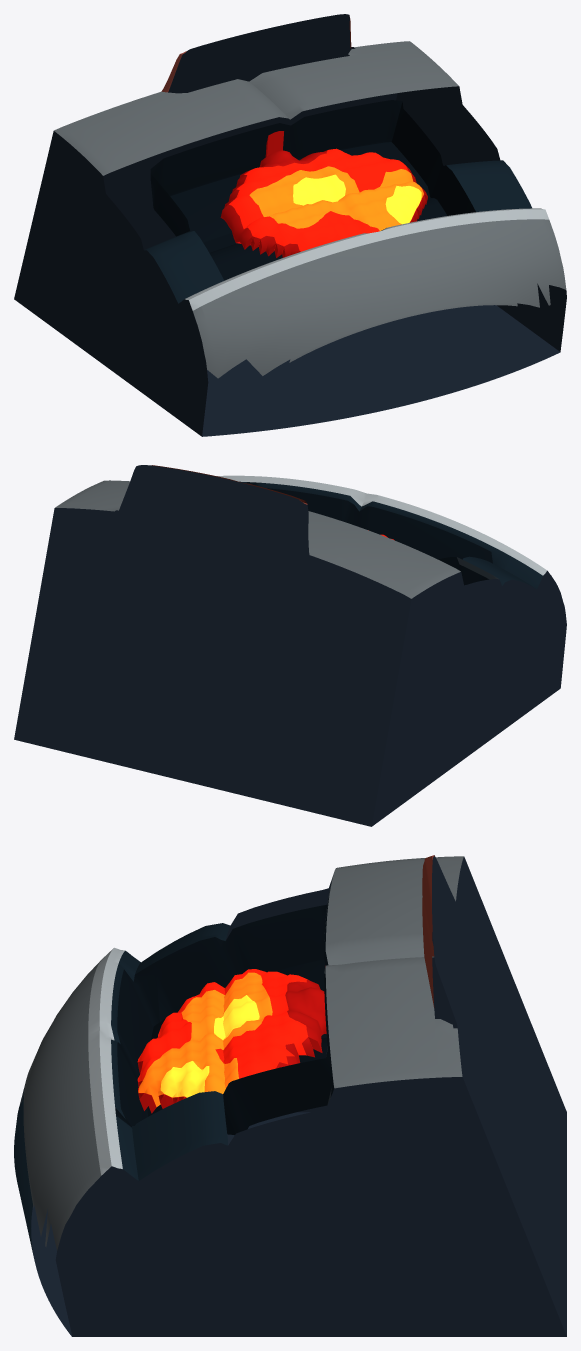
File: armour_dome_11.glb
3 views of the same model, one above another, from view 1: azimuth 30°, elevation 25°; view 2: azimuth 150°, elevation 25°; view 3: azimuth 270°, elevation 25° (orthographic). The views are drawn at different scales.
Visible parts, largest first — view 1: armour_dome_11; view 2: armour_dome_11; view 3: armour_dome_11.
Part boxes in pixels (x1,y1,x2,y2): armour_dome_11: (14, 14, 566, 436); armour_dome_11: (14, 465, 566, 826); armour_dome_11: (14, 855, 566, 1336).
Size of the model in its own units: 24 by 16.76 by 24.96.
